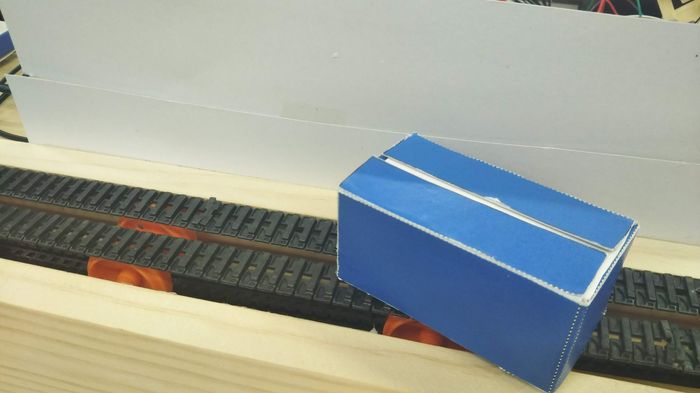box3: (334, 130, 642, 393)
